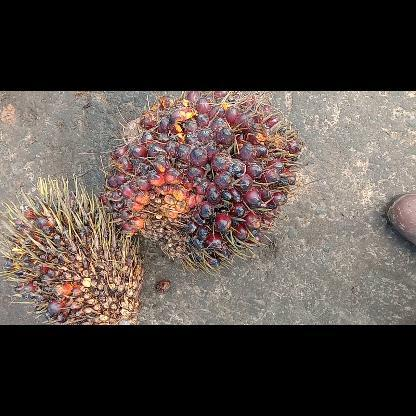Kurang masak: (99, 90, 302, 276)
TBS abnormal: (0, 172, 145, 324)
